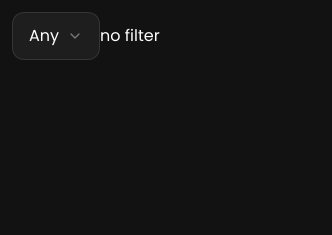
Test: supports a sentinel for the "no filter" choice an option cannot carry
Press Enter in the dropdown named "Minimum level", box left=12, top=12, right=100, bottom=60
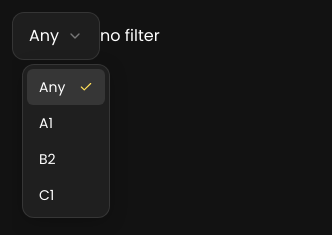
Click the option "B2" at (47, 159), box left=39, top=149, right=56, bottom=169
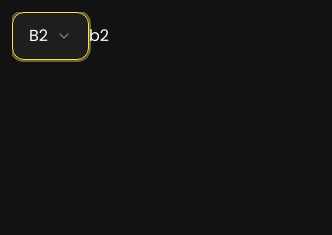
Now the text "b2" is shown, box left=89, top=24, right=109, bottom=47
Press Enter in the dropdown named "Minimum level", box left=12, top=12, right=89, bottom=60
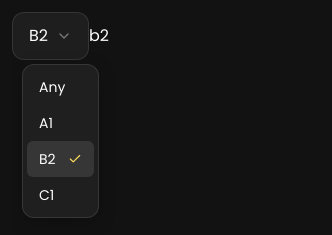
Click the option "Any" at (52, 87), box left=39, top=77, right=65, bottom=97
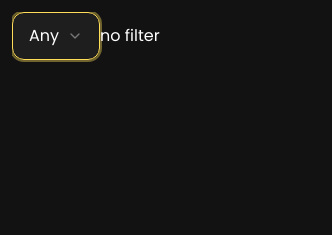
Now the text "no filter" is shown, box left=100, top=24, right=160, bottom=47
